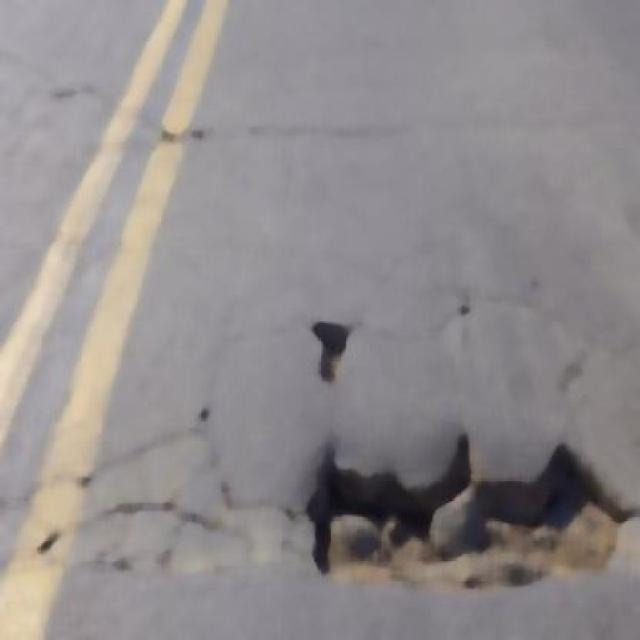Pothole: (290, 457, 593, 605)
